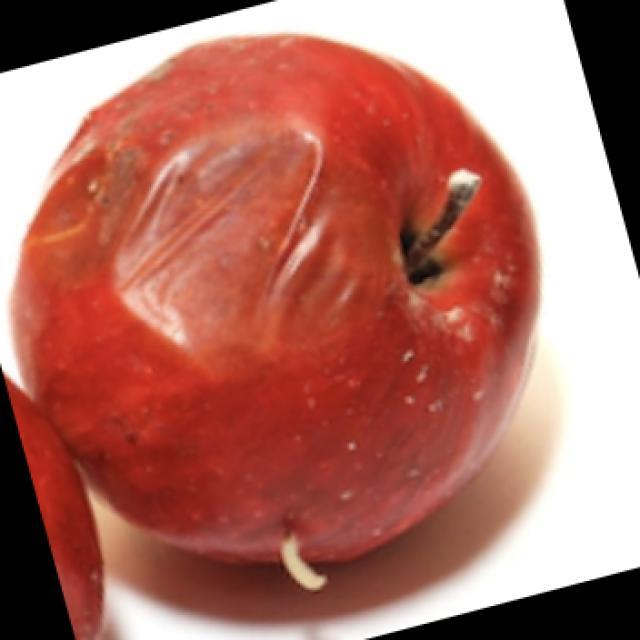Rotten: (28, 41, 542, 596)
